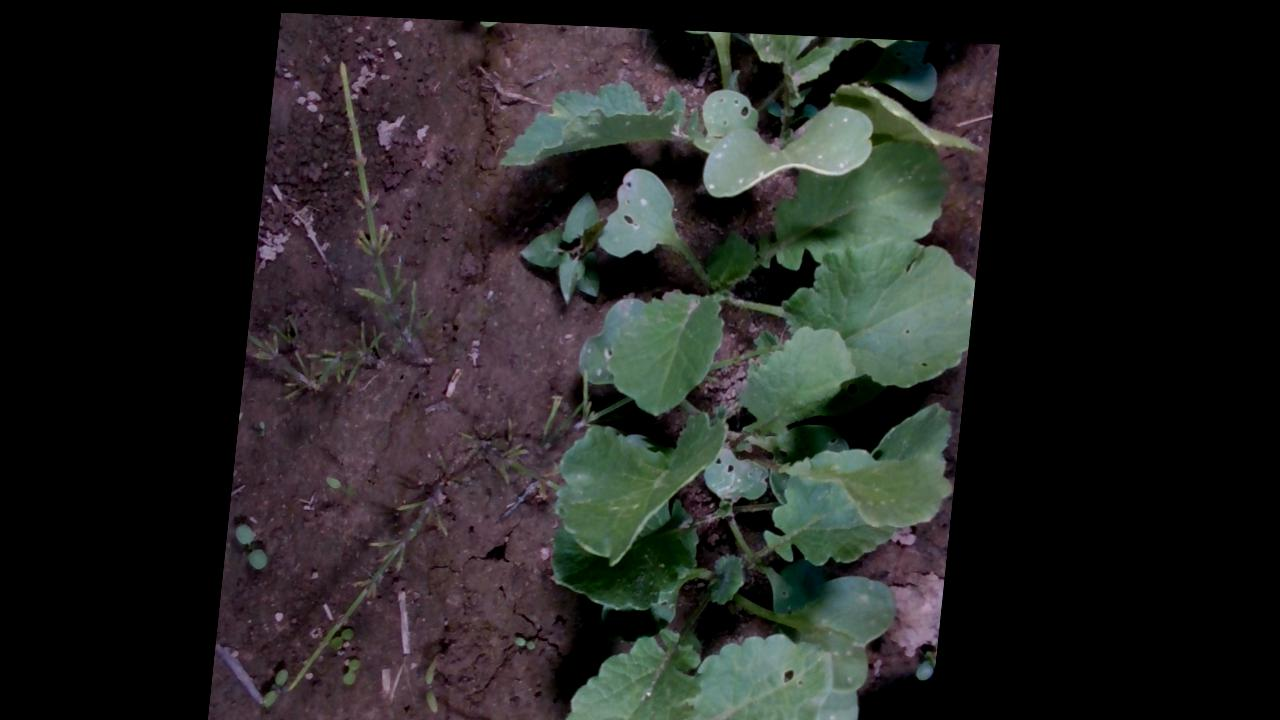weed: (436, 651, 458, 710), (359, 649, 376, 681), (529, 628, 553, 645)
